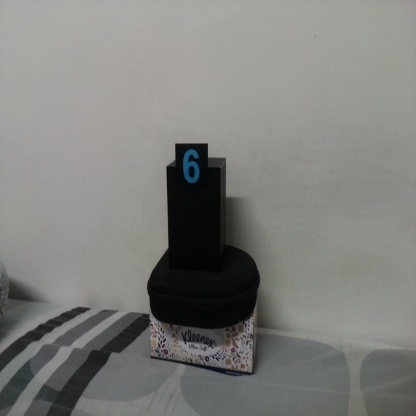id_6: (175, 144, 208, 197)
